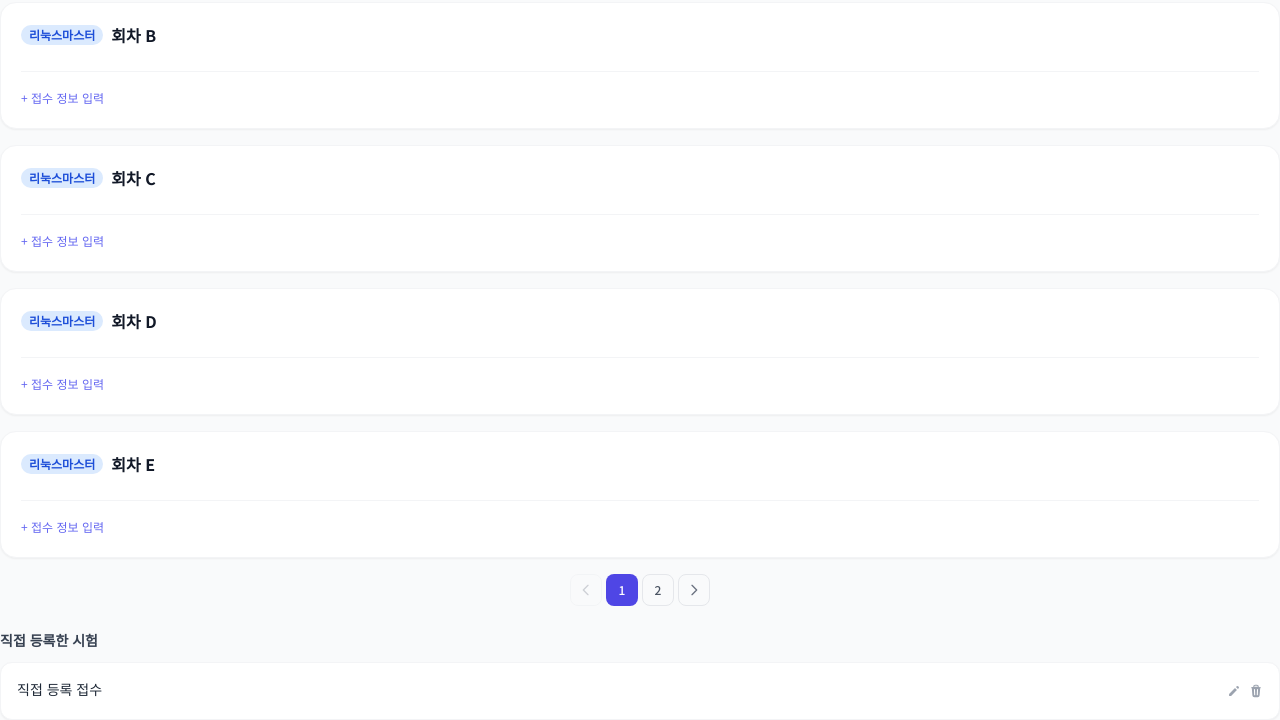
Test case: 시험 정보 페이지네이션 › 관심 설정 저장 후 목록이 줄어들어도 첫 결과와 직접 등록 접수를 표시한다
(page scrolled)
Click the button named "다음 페이지".
click(694, 590)  # box [678,574,710,606]
(page scrolled)
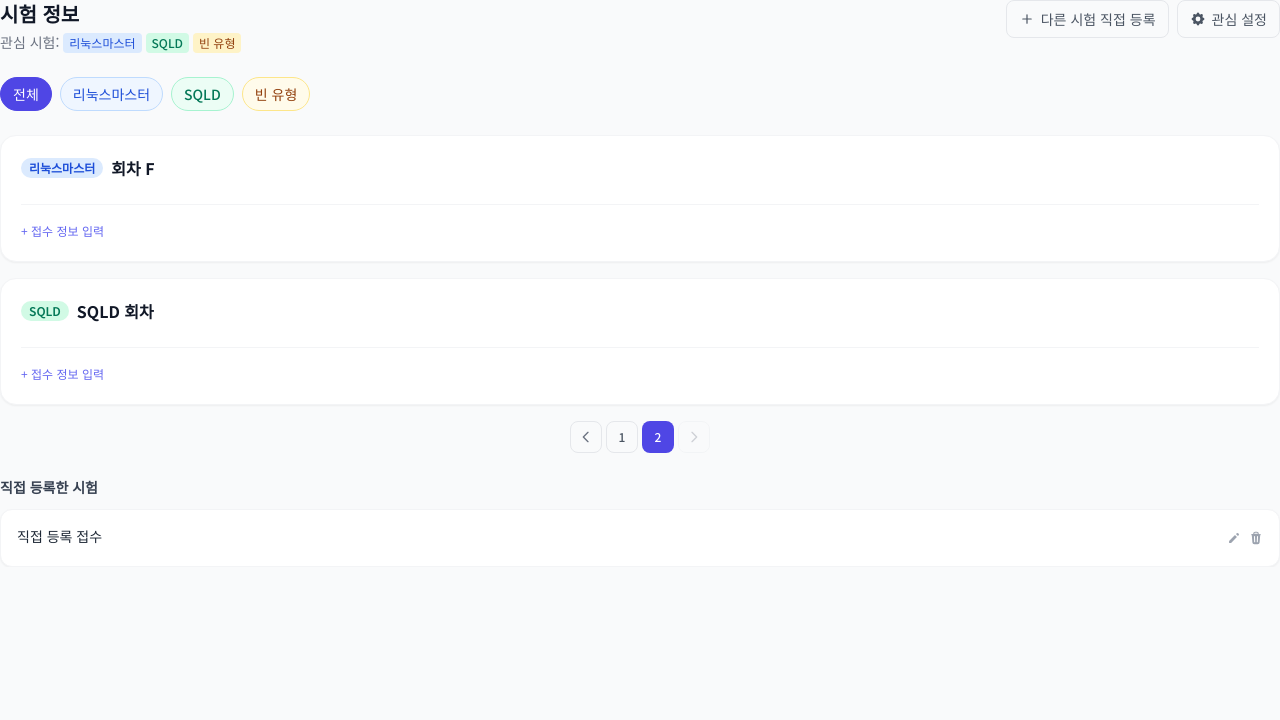
Click the button "관심 설정".
click(1228, 19)  # box [1176,0,1279,38]
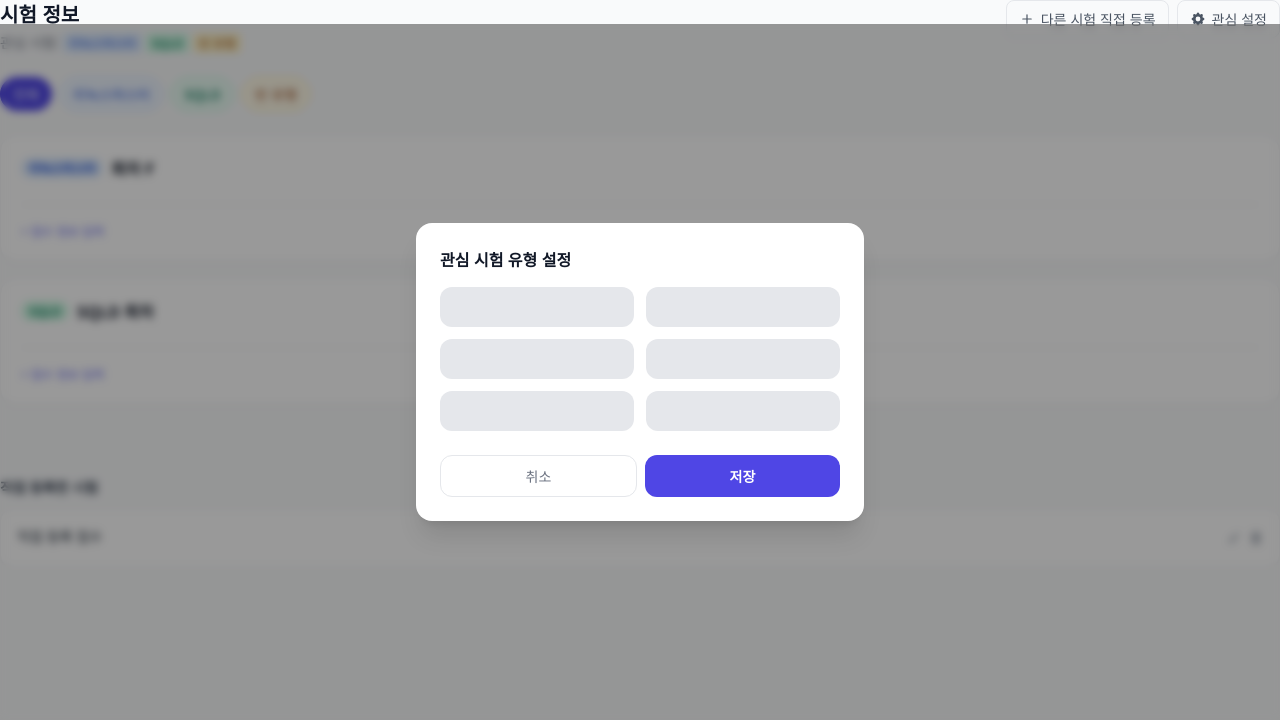
Click the button "저장".
click(742, 476)  # box [645,455,840,497]
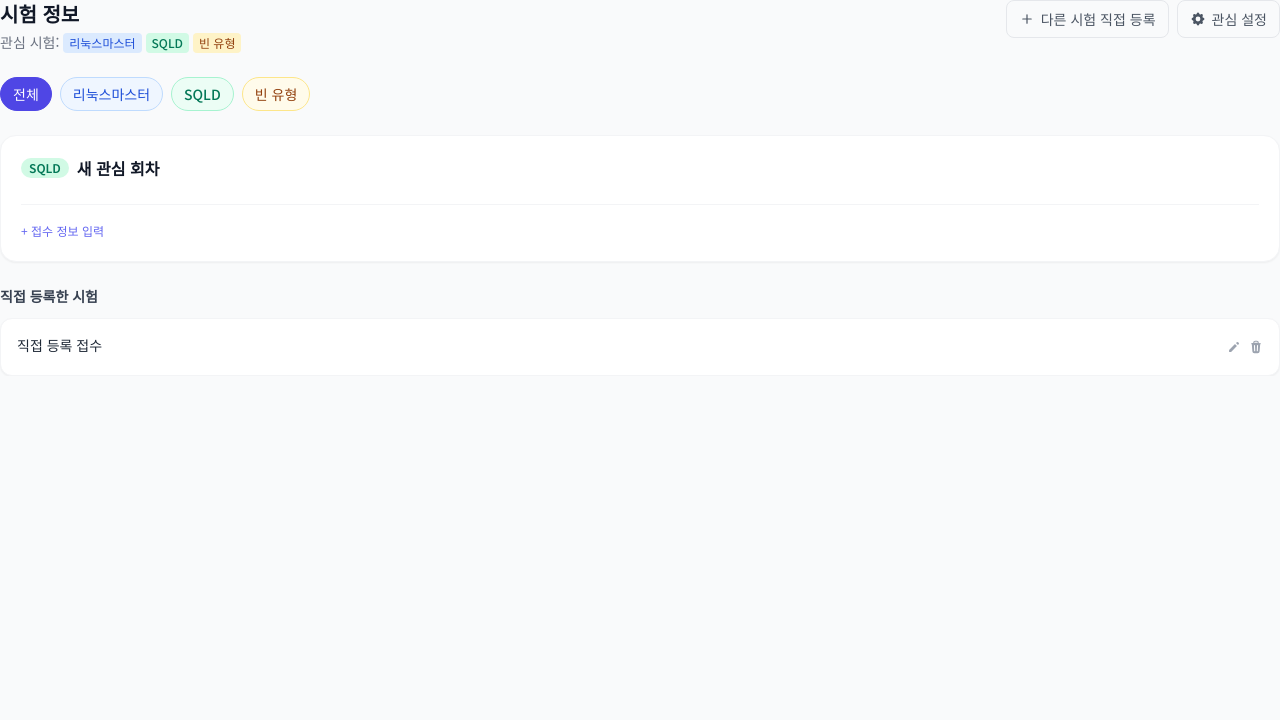
Expected: the text "직접 등록 접수" is shown, [17,335,102,355]
Expected: the heading "새 관심 회차" is shown, [77,156,159,180]
